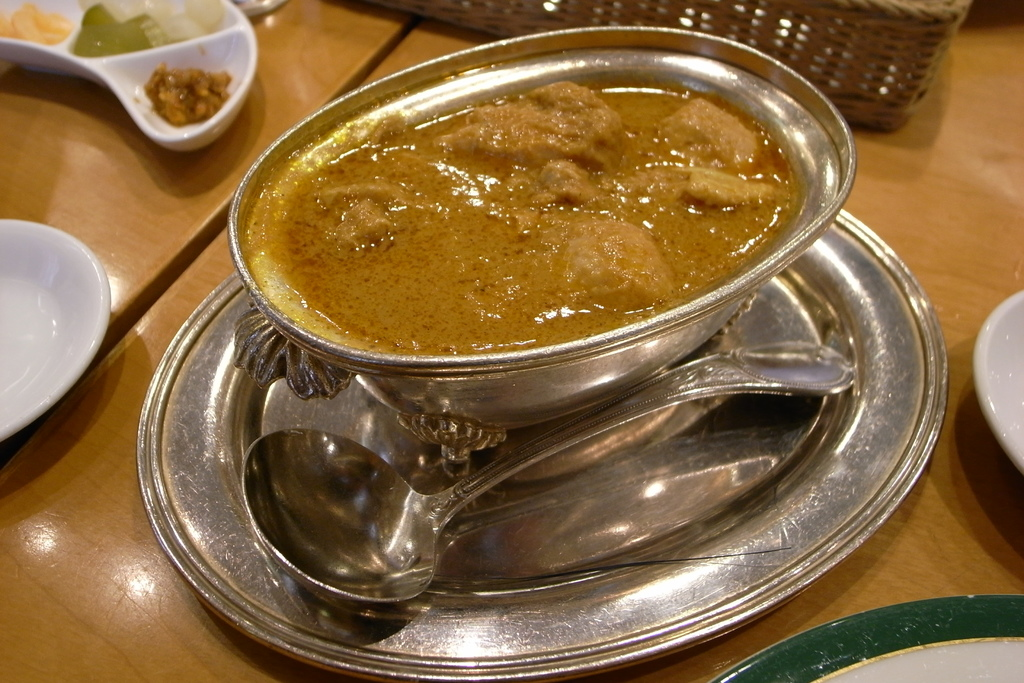plate: (0, 217, 122, 444), (720, 596, 1023, 682), (980, 286, 1023, 482)
